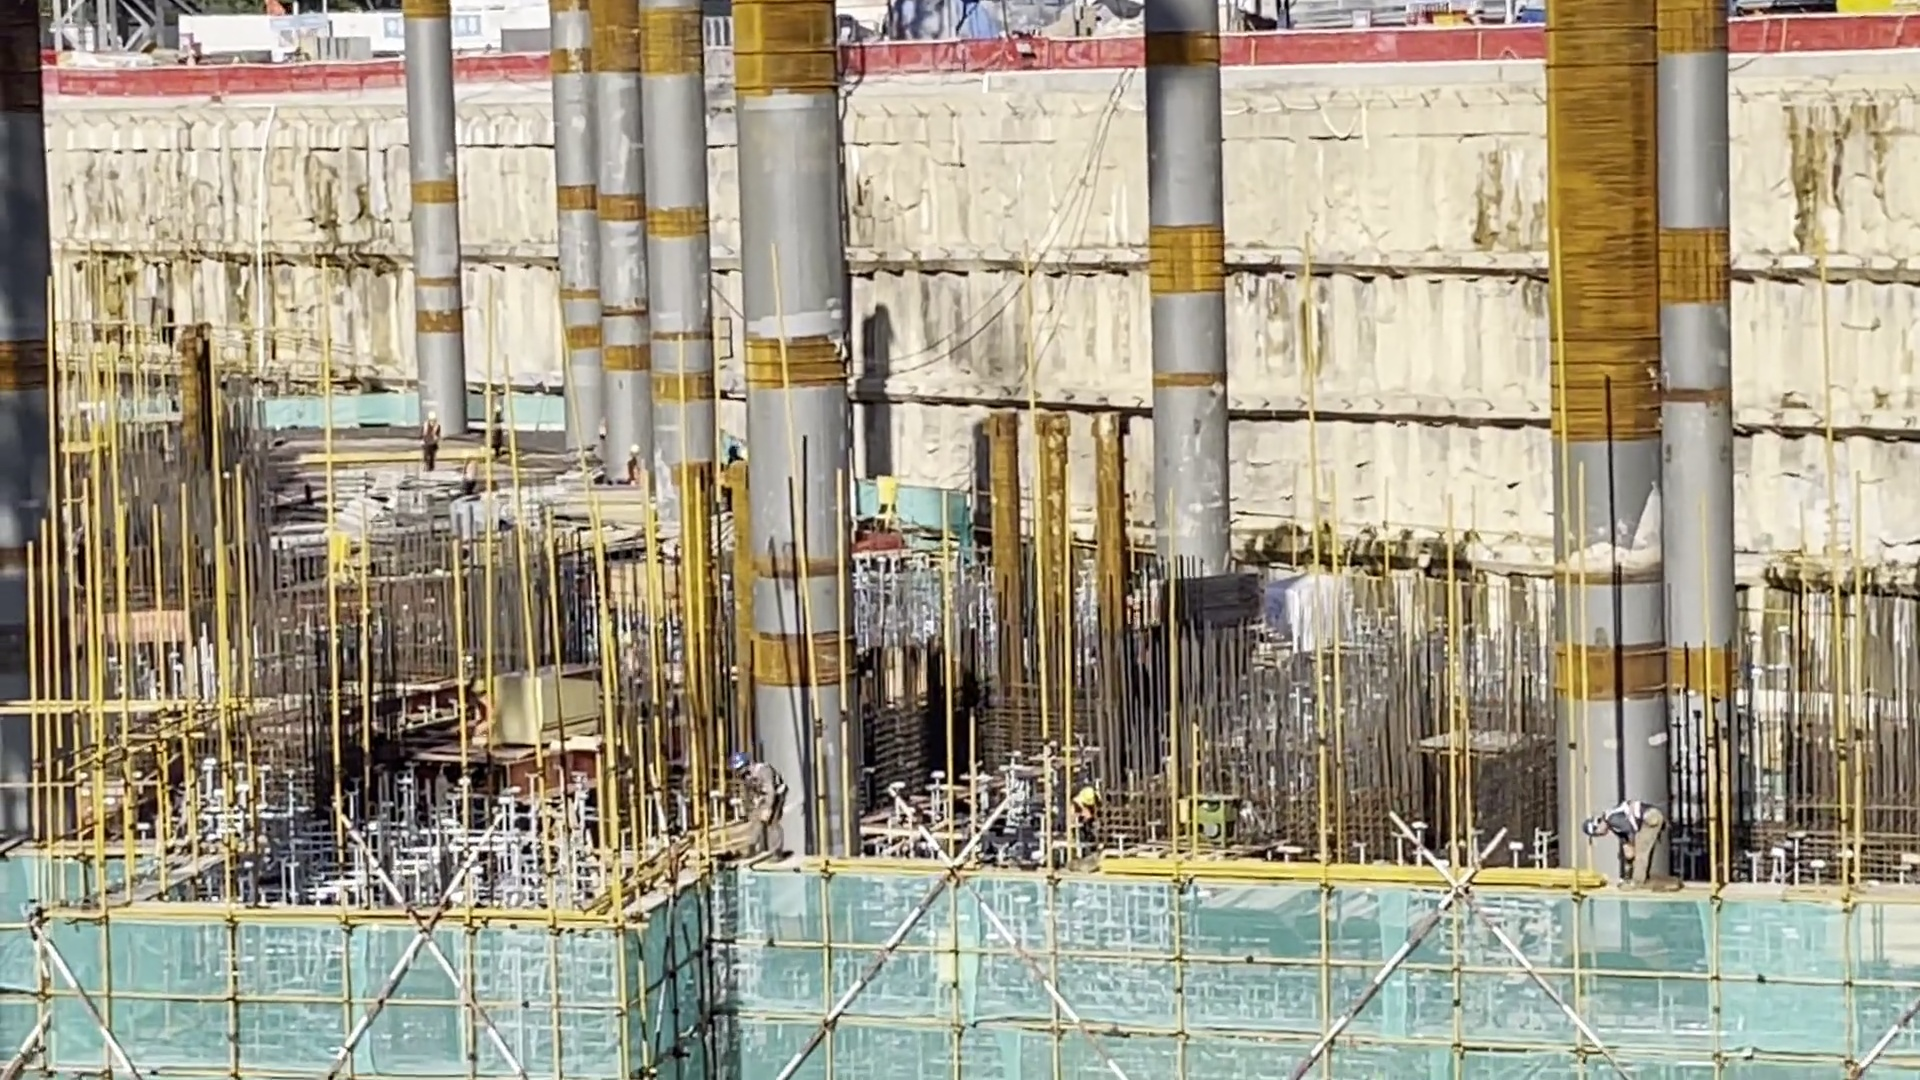board: (491, 672, 598, 764)
ebox: (878, 474, 906, 509), (326, 531, 346, 579)
fence: (838, 27, 1151, 82), (53, 54, 418, 97), (1223, 21, 1554, 64), (1724, 18, 1920, 54), (459, 44, 559, 92)
helmet: (1586, 811, 1618, 844), (1078, 776, 1089, 811), (731, 754, 754, 771), (628, 446, 639, 459), (473, 685, 488, 694), (427, 410, 435, 426), (493, 402, 501, 416), (466, 452, 473, 462)
person: (1583, 796, 1668, 888), (728, 745, 783, 851), (1061, 778, 1099, 855), (468, 670, 498, 741), (416, 408, 444, 466), (489, 401, 513, 453), (455, 446, 480, 495), (628, 441, 641, 490)
vest: (754, 766, 796, 827), (1611, 807, 1663, 839), (1061, 806, 1096, 847), (474, 692, 494, 733), (1062, 809, 1091, 833), (459, 458, 478, 491), (422, 426, 439, 453), (488, 419, 502, 437), (627, 459, 639, 478)
